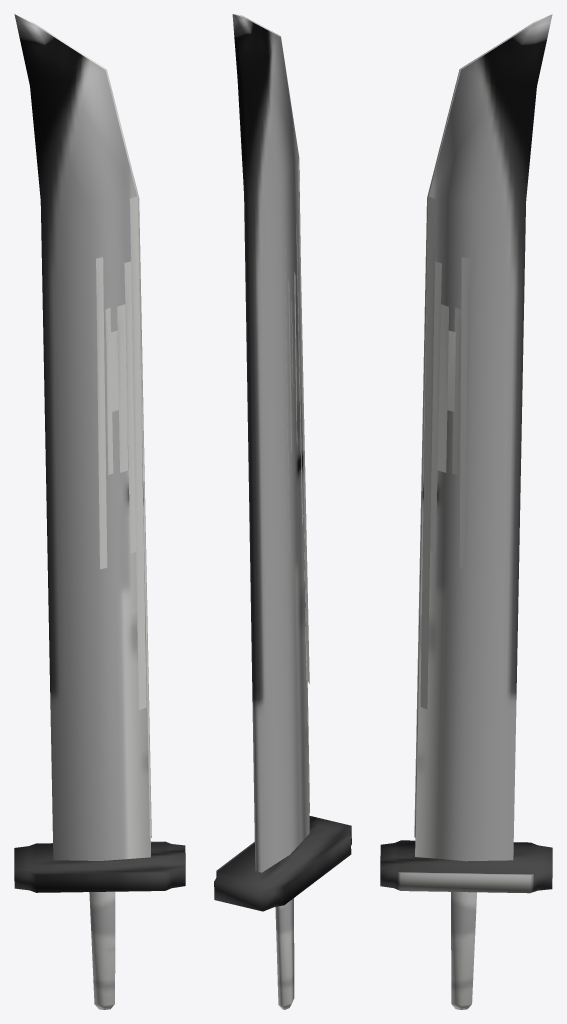
The model's file is hollowasauchi.obj.
The picture shows the model from 3 angles, left to right: view 1: azimuth 90°, elevation 25°; view 2: azimuth 150°, elevation 25°; view 3: azimuth 270°, elevation 25°; orthographic projection. The views are drawn at different scales.
Visible parts, largest first — view 1: asauchi; view 2: asauchi; view 3: asauchi.
Part boxes in pixels (<box>): asauchi: <box>14,14,185,1009</box>; asauchi: <box>214,14,351,1009</box>; asauchi: <box>380,14,552,1009</box>.
Bounding box in the file's own units: 0.1875 × 2.69 × 0.4223.
